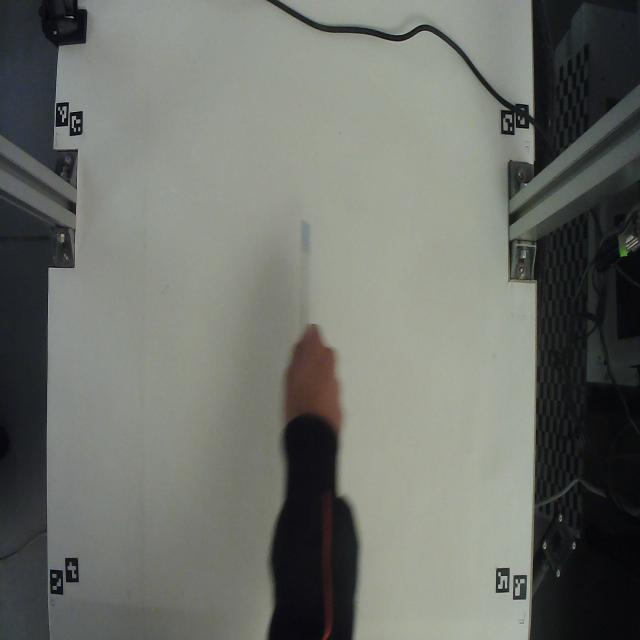NoPres: (287, 197, 319, 345)
